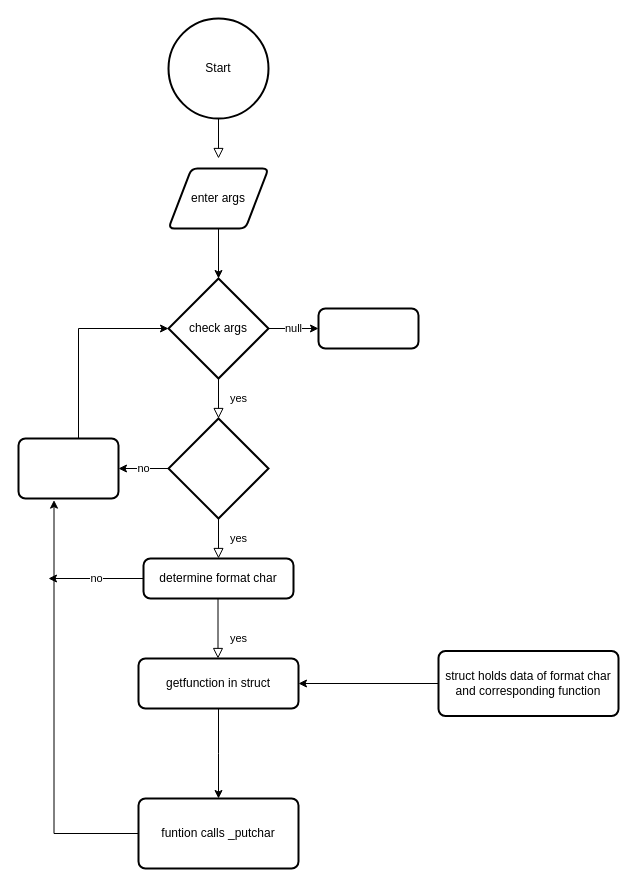
This 636x886 diagram has some shape labels left out. The shapes that lost their labels are listed below. From the top down, each one's box as (x1, y1, x2, y2) in pixels, then its label:
(317, 307, 419, 349): exit if !args
(17, 437, 119, 499): call _putchar
(167, 417, 269, 519): check mod %
